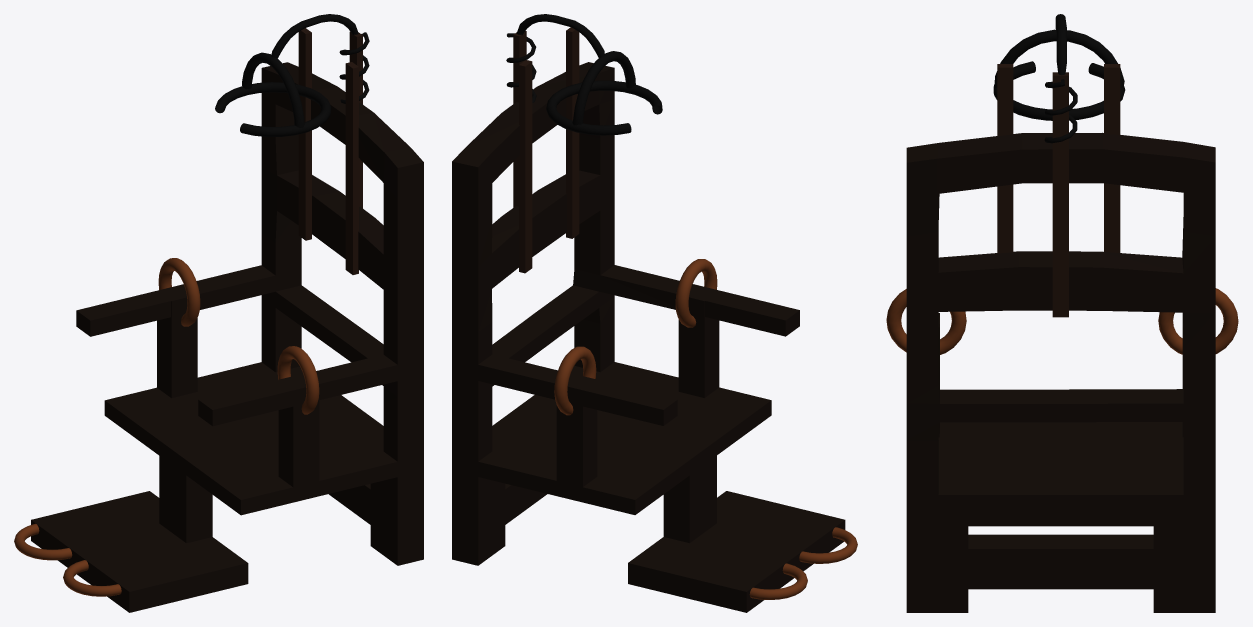
Rendered from ElectricChair.FBX.
3 views of the same model, side by side, from view 1: azimuth 30°, elevation 25°; view 2: azimuth 150°, elevation 25°; view 3: azimuth 270°, elevation 25° (orthographic). The views are drawn at different scales.
Parts seen in each view (by area): view 1: Box005, Box008, Box007, Torus008, Torus006, Torus003, Torus009, Torus005, Torus004, Torus007, Box006; view 2: Box005, Box007, Box008, Torus008, Torus003, Torus006, Torus009, Torus005, Torus004, Torus007, Box006; view 3: Box005, Box006, Box007, Box008, Torus003, Torus006, Torus009, Torus008, Spring002, Torus007.
Part boxes in pixels (x1,y1,x2,y2): Box005: [31, 62, 423, 612]; Box008: [345, 62, 358, 274]; Box007: [298, 28, 311, 240]; Torus008: [215, 82, 331, 136]; Torus006: [277, 346, 319, 414]; Torus003: [158, 258, 200, 326]; Torus009: [242, 52, 304, 127]; Torus005: [63, 560, 121, 596]; Torus004: [14, 523, 72, 560]; Torus007: [271, 14, 358, 58]; Box006: [349, 31, 362, 208]; Box005: [452, 62, 845, 612]; Box007: [519, 60, 532, 273]; Box008: [566, 27, 579, 238]; Torus008: [546, 80, 662, 135]; Torus003: [554, 346, 596, 415]; Torus006: [675, 259, 717, 327]; Torus009: [572, 51, 635, 125]; Torus005: [799, 527, 857, 563]; Torus004: [749, 563, 807, 599]; Torus007: [516, 14, 604, 57]; Box006: [513, 31, 526, 207]; Box005: [906, 132, 1215, 612]; Box006: [1052, 72, 1068, 317]; Box007: [1104, 64, 1120, 252]; Box008: [997, 64, 1013, 253]; Torus003: [1158, 288, 1238, 354]; Torus006: [886, 289, 966, 354]; Torus009: [994, 29, 1124, 87]; Torus008: [993, 61, 1125, 120]; Spring002: [1044, 79, 1077, 143]; Torus007: [1055, 14, 1066, 75].
Bounding box in the file's own units: 52.17 × 77.74 × 43.6.
